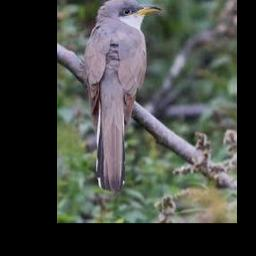Cuckoo: (84, 0, 161, 191)
